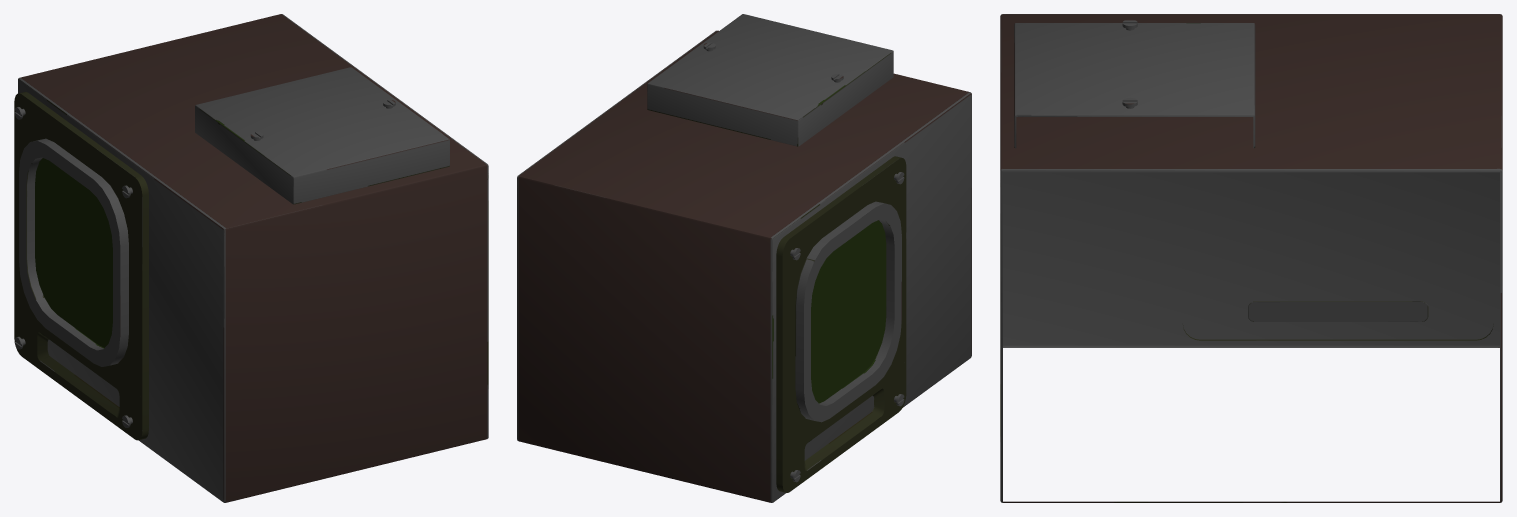
File: minijuego1.fbx
The picture shows the model from 3 angles, left to right: view 1: azimuth 30°, elevation 25°; view 2: azimuth 150°, elevation 25°; view 3: azimuth 270°, elevation 25°; orthographic projection. The views are drawn at different scales.
Parts seen in each view (by area): view 1: Cube.004; view 2: Cube.004; view 3: Cube.004.
Part boxes in pixels (x1,y1,x2,y2): Cube.004: [14, 14, 488, 502]; Cube.004: [517, 14, 971, 502]; Cube.004: [1000, 14, 1502, 502].
Bounding box in the file's own units: 115 × 122 × 148.
